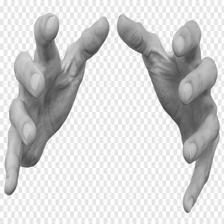Feet: (6, 69, 150, 186), (122, 16, 211, 203)
